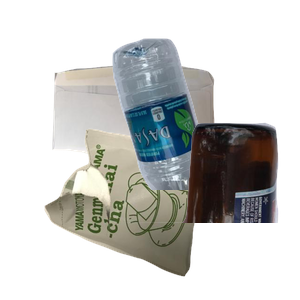glass: (87, 120, 300, 300)
paper: (50, 61, 257, 211)
plastic: (110, 36, 300, 216)
trash: (42, 126, 249, 300)
